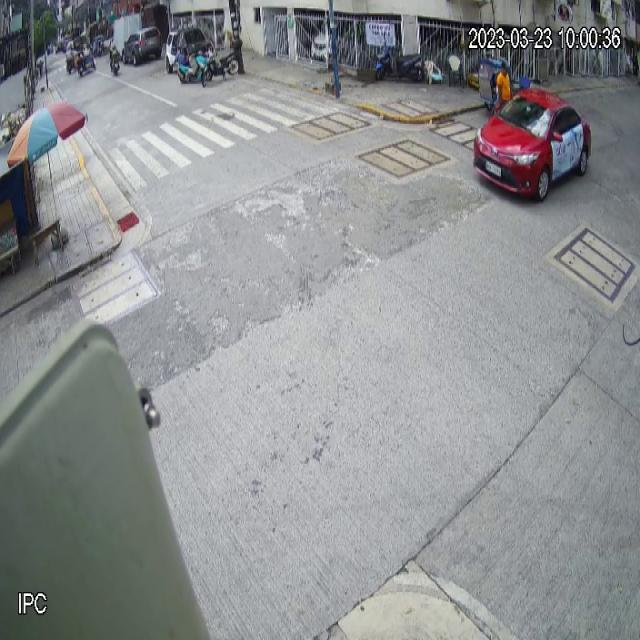Car: (473, 88, 592, 202)
